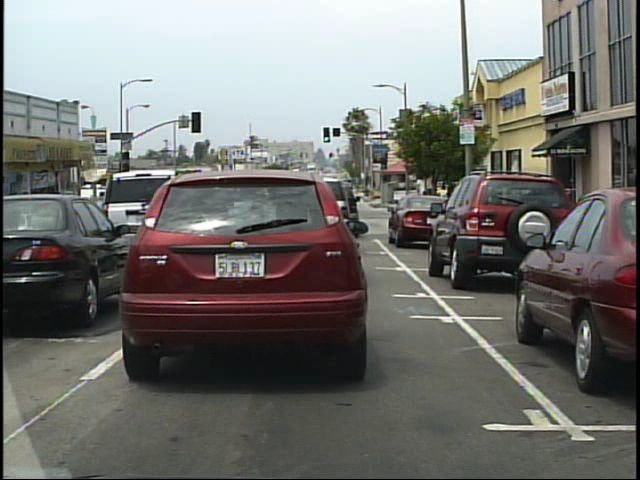person: (427, 189, 439, 224), (420, 191, 429, 223)
